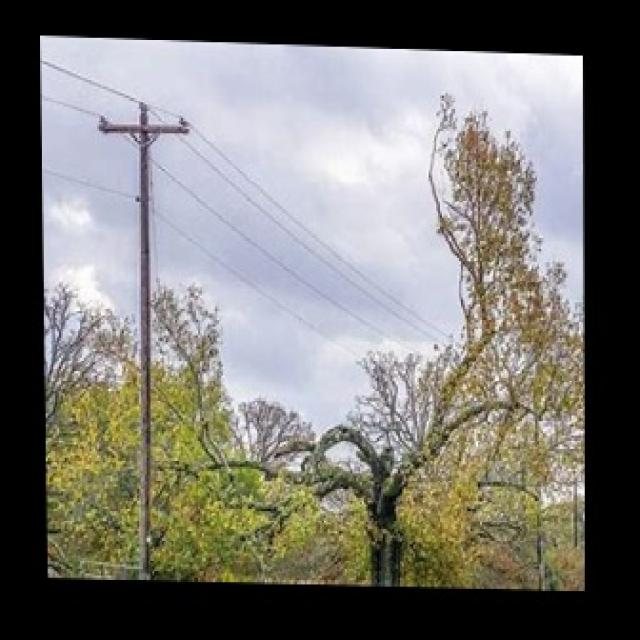utility poles: (97, 54, 193, 577)
